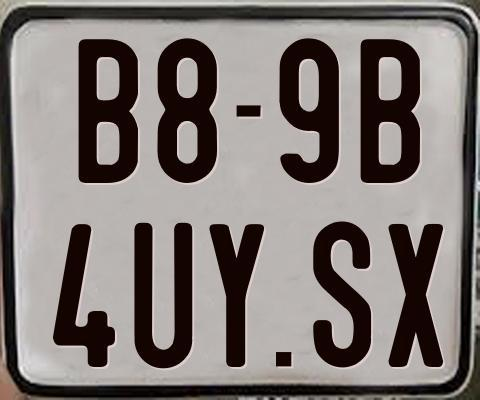4: (53, 221, 119, 366)
8: (156, 37, 222, 183)
9: (278, 37, 342, 186)
B: (357, 36, 420, 186), (75, 37, 136, 184)
S: (313, 219, 374, 368)
U: (131, 222, 193, 367)
X: (388, 224, 449, 370)
Y: (207, 222, 262, 371)
